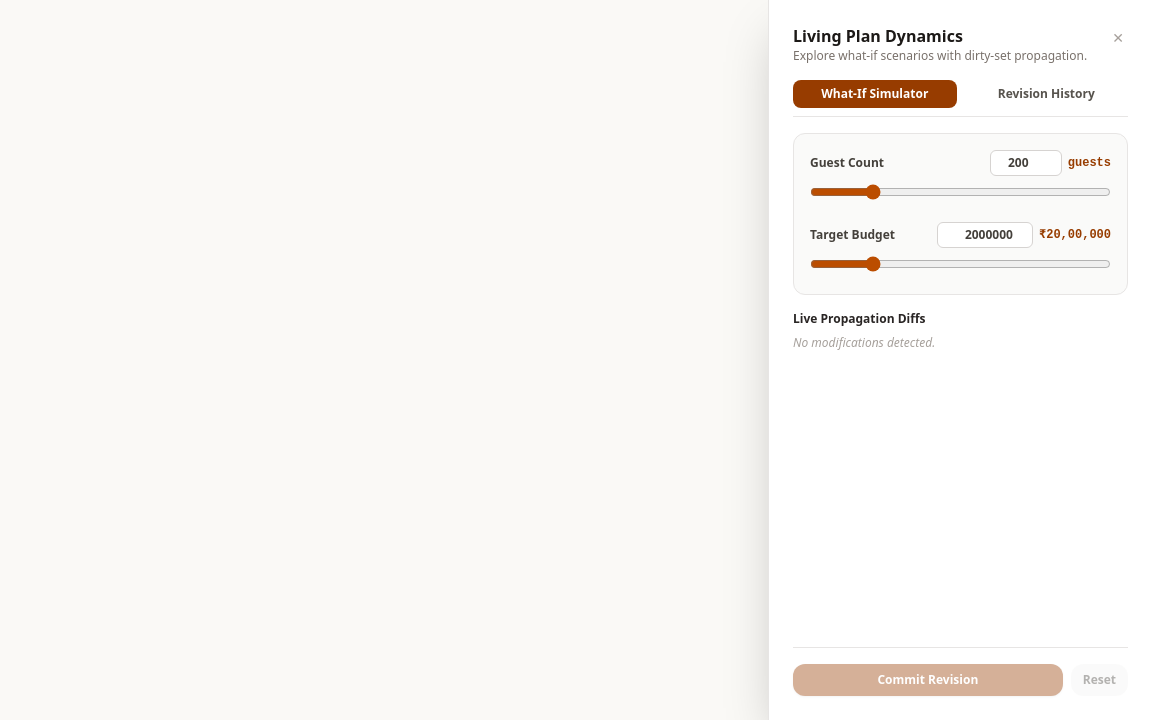
Test: WhatIfDrawer Component (AC3, AC4, AC11) › allows direct typing in bidirectional numeric inputs for guests and budget
The width and height of the screenshot is (1152, 720).
Replace the text in the number field named "Exact guests" with "350": (1026, 163) x1=990 y1=150 x2=1062 y2=176
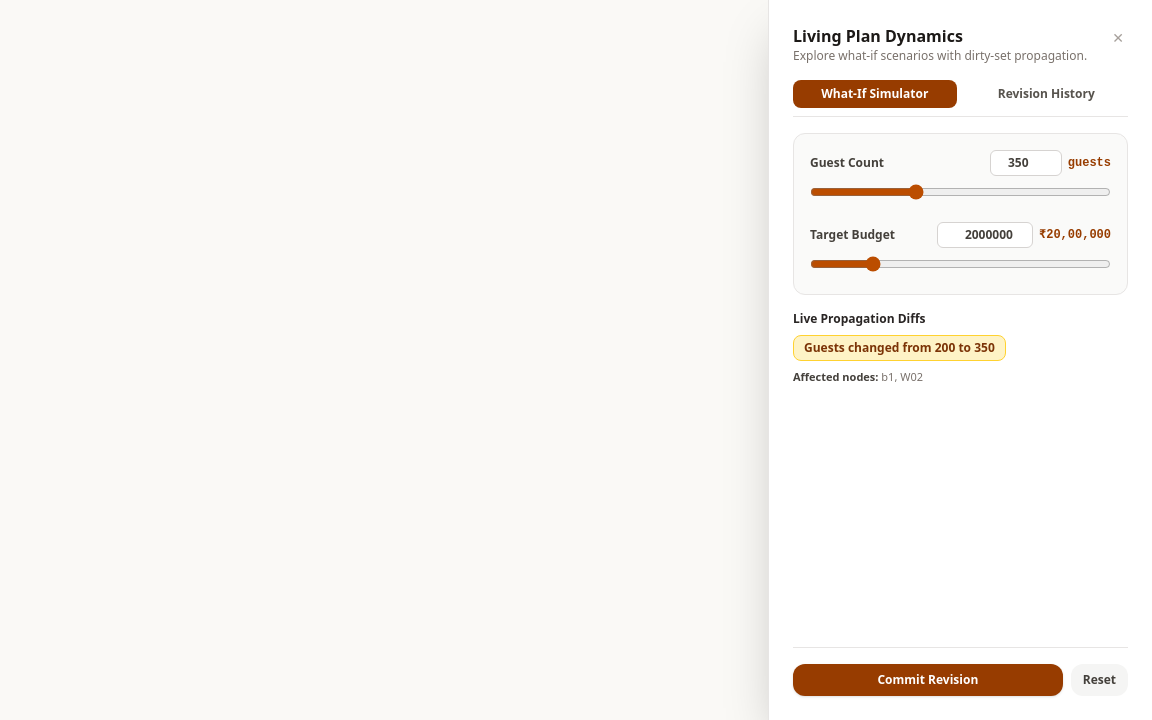
Now the text "Guests changed from 200 to 350" is shown, box x1=793 y1=335 x2=1006 y2=361
Replace the text in the number field named "Exact INR budget" with "3500000": (985, 235) x1=937 y1=222 x2=1033 y2=248
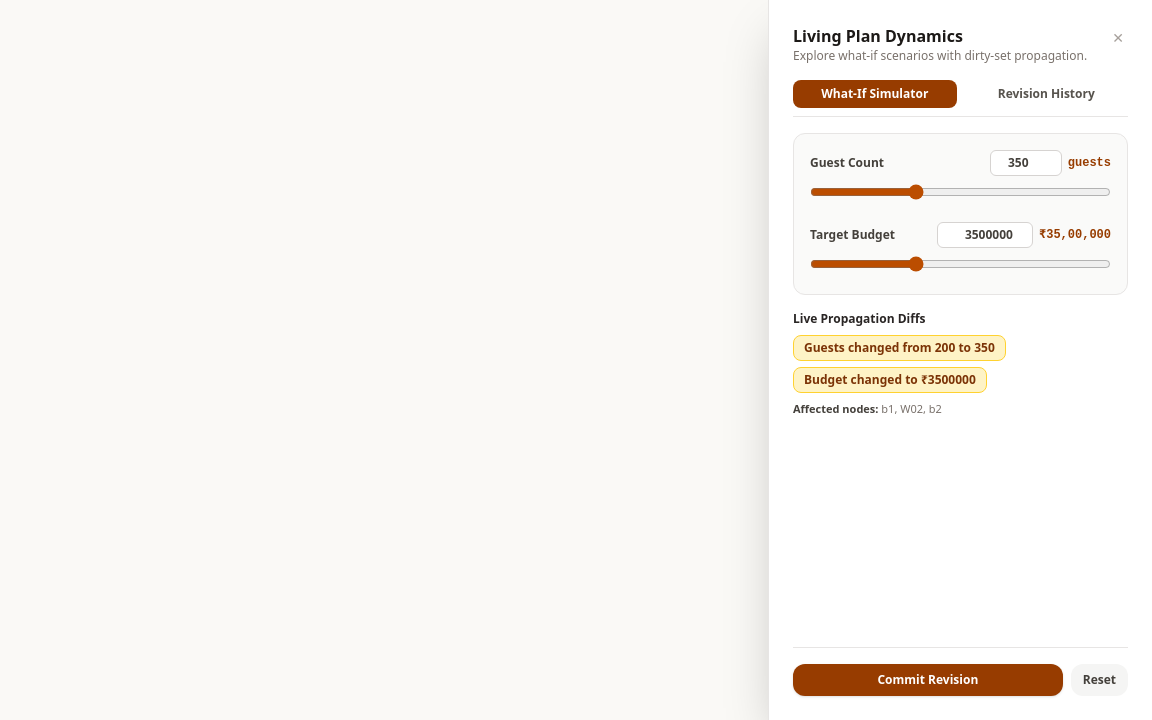
Now the text "Budget changed to ₹3500000" is shown, box x1=793 y1=367 x2=987 y2=393
